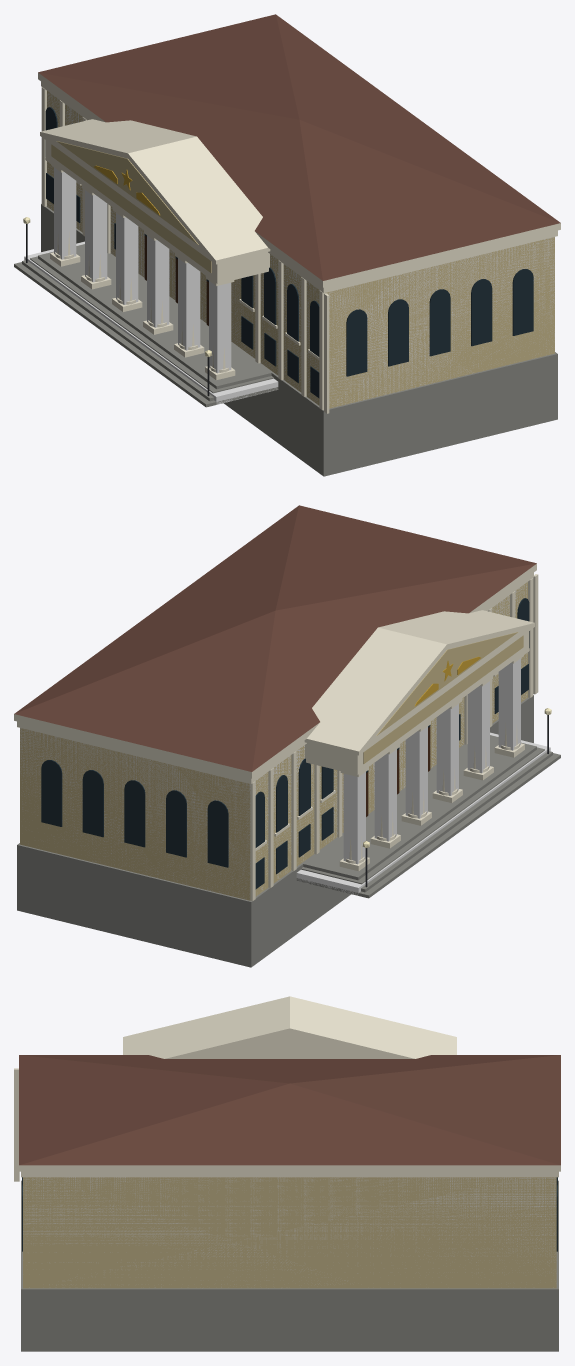
File: culture-house.glb
The picture shows the model from 3 angles, top to bottom: view 1: azimuth 30°, elevation 25°; view 2: azimuth 150°, elevation 25°; view 3: azimuth 270°, elevation 25°; orthographic projection. The views are drawn at different scales.
Parts seen in each view (by area): view 1: 03_#6a4a40, 00_#8a8a84, 01_#c8b98c, 02_#ece6d2, solid.006, 04_#26343c_noshadow_r320, solid, solid.003, solid.004, solid.005, solid.001, solid.002 (+1 smaller); view 2: 03_#6a4a40, 01_#c8b98c, 00_#8a8a84, 02_#ece6d2, 04_#26343c_noshadow_r320, solid.006, solid.005, solid.002, solid, solid.001, solid.003, solid.004 (+1 smaller); view 3: 01_#c8b98c, 03_#6a4a40, 00_#8a8a84, 02_#ece6d2, solid.006.
Boxes of the visible parts, <box> form: 03_#6a4a40: <box>38,14,560,280</box>; 00_#8a8a84: <box>14,204,557,476</box>; 01_#c8b98c: <box>47,91,554,408</box>; 02_#ece6d2: <box>38,73,560,413</box>; solid.006: <box>47,92,554,406</box>; 04_#26343c_noshadow_r320: <box>45,107,533,398</box>; solid: <box>209,281,231,373</box>; solid.003: <box>116,213,138,304</box>; solid.004: <box>85,190,107,282</box>; solid.005: <box>54,167,76,259</box>; solid.001: <box>178,258,200,350</box>; solid.002: <box>147,235,169,327</box>; 03_#6a4a40: <box>14,505,536,771</box>; 01_#c8b98c: <box>20,582,527,900</box>; 00_#8a8a84: <box>17,695,560,967</box>; 02_#ece6d2: <box>14,564,538,901</box>; 04_#26343c_noshadow_r320: <box>41,598,529,889</box>; solid.006: <box>20,582,527,898</box>; solid.005: <box>343,772,365,864</box>; solid.002: <box>436,704,458,795</box>; solid: <box>498,658,520,750</box>; solid.001: <box>467,681,489,773</box>; solid.003: <box>405,726,427,818</box>; solid.004: <box>374,749,396,841</box>; 01_#c8b98c: <box>23,1177,556,1288</box>; 03_#6a4a40: <box>19,1055,560,1165</box>; 00_#8a8a84: <box>21,1180,558,1351</box>; 02_#ece6d2: <box>14,996,560,1181</box>; solid.006: <box>23,1177,556,1287</box>.
Size of the model in its own units: 24.1 by 17.4 by 38.95.
